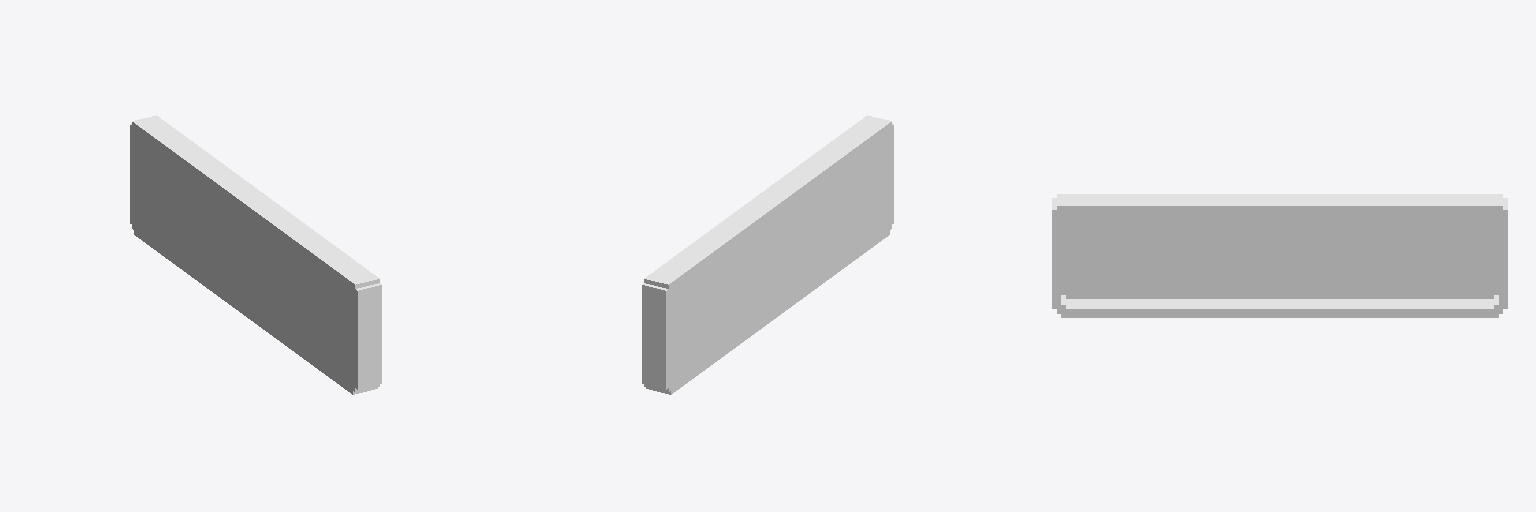
The model's file is LibraryEquipScrollPanel.obj.
3 renders of one model, left to right at view 1: azimuth 30°, elevation 25°; view 2: azimuth 150°, elevation 25°; view 3: azimuth 270°, elevation 25°, orthographic.
Visible parts, largest first — view 1: object 1; view 2: object 1; view 3: object 1.
Part boxes in pixels (x1,y1,x2,y2): object 1: (130, 115, 381, 394); object 1: (642, 115, 893, 394); object 1: (1052, 194, 1507, 317).
Bounding box in the file's own units: 0.6 × 2.6 × 9.6.